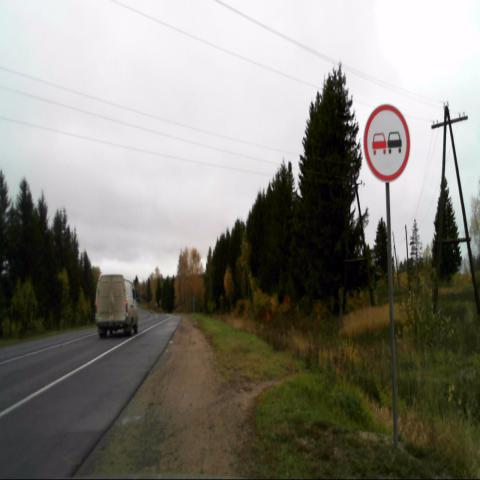3_20: (363, 104, 410, 183)
